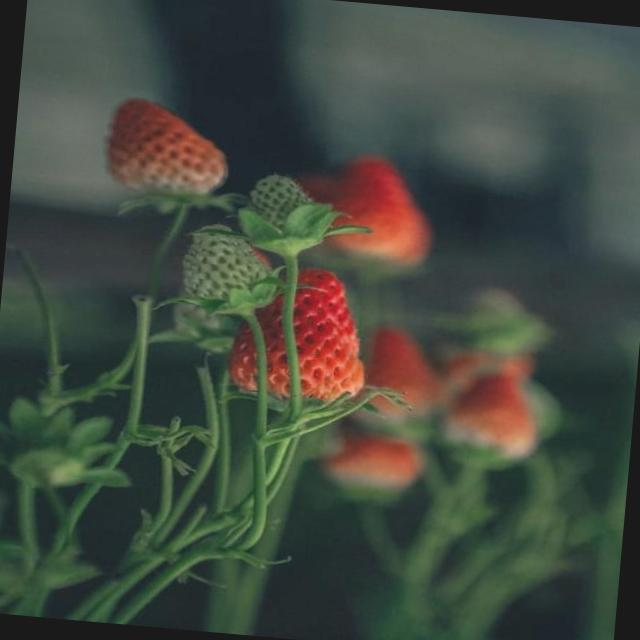Strawberry: (225, 262, 372, 408), (101, 95, 232, 210), (312, 152, 432, 274), (348, 323, 448, 433), (180, 222, 284, 320), (439, 368, 538, 470), (238, 170, 329, 255)
